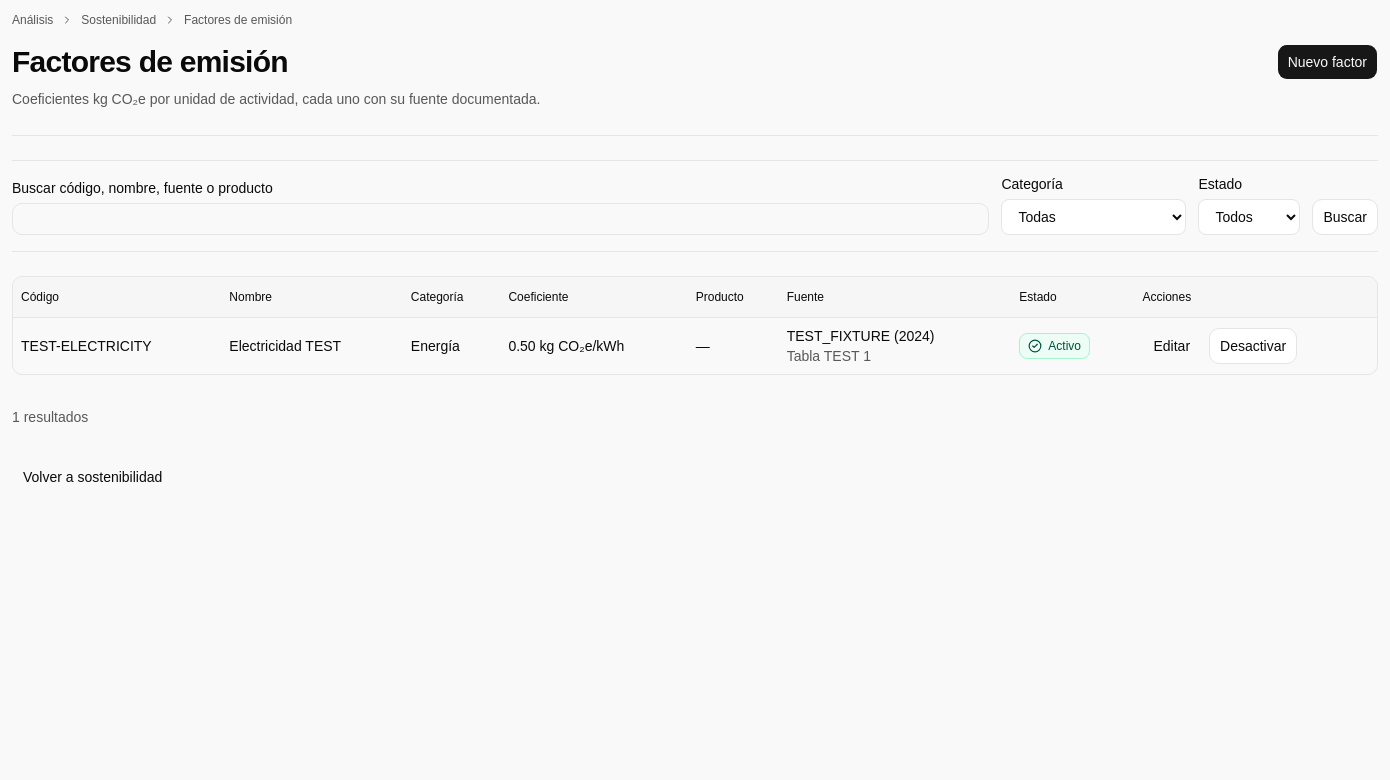
Emission factor catalog UI › locks identity fields when editing
The width and height of the screenshot is (1390, 780).
What coordinates should you click on to do the following:
click the button "Editar"
I would click on:
 (1172, 346)
Its box is [1142,328,1201,364].
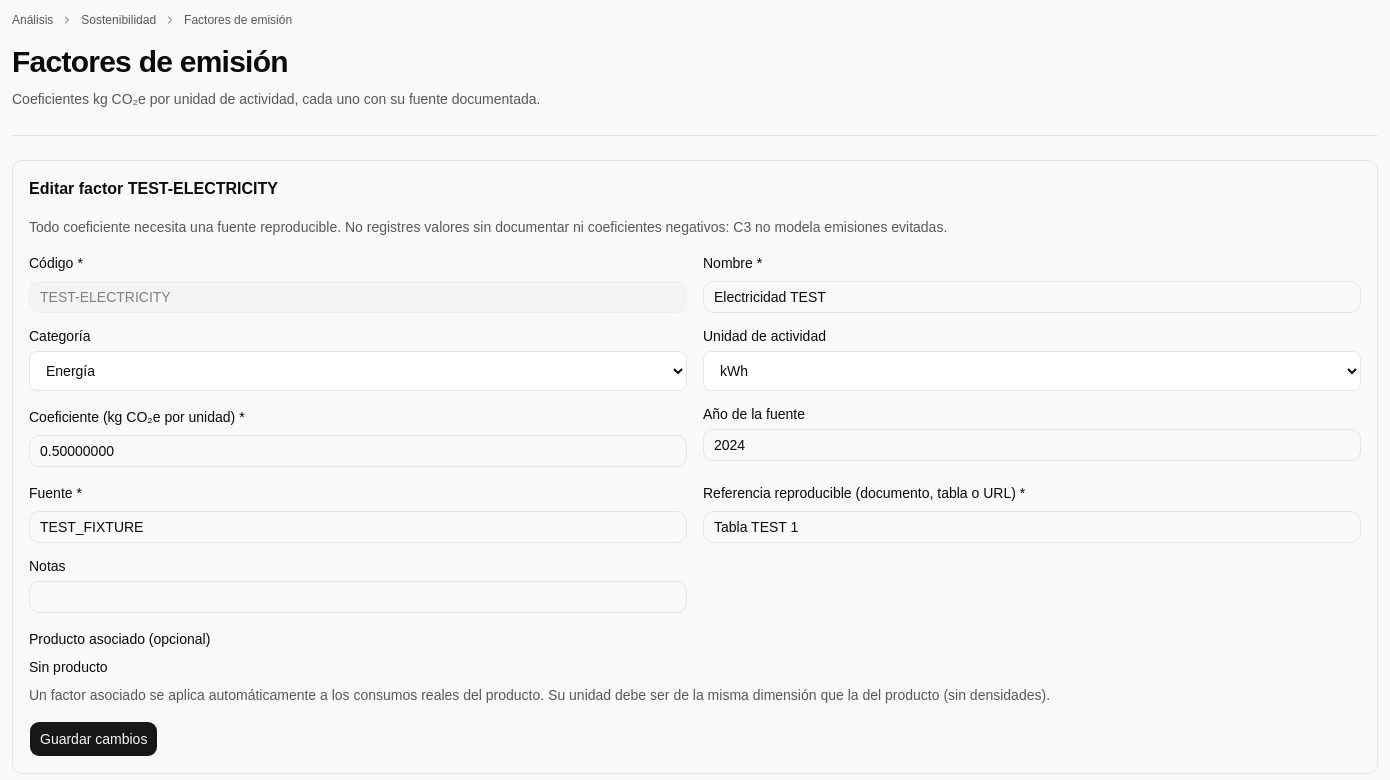
Expected: the field labelled "Código" is disabled, [29,281,687,313]
Expected: the dropdown labelled "Categoría" is disabled, [29,351,687,391]
Expected: the dropdown labelled "Unidad de actividad" is disabled, [703,351,1361,391]
